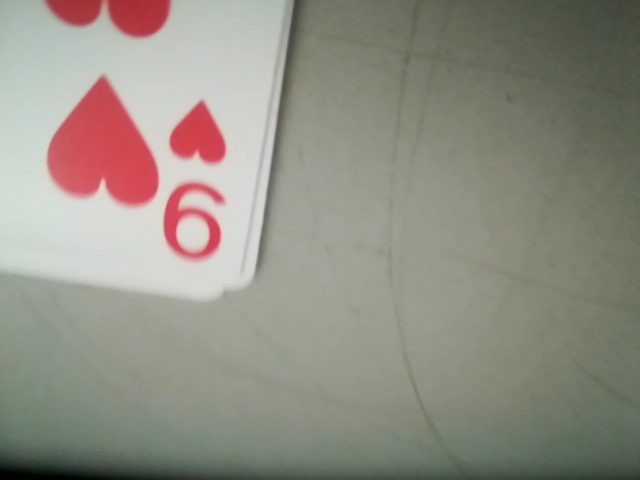hx 9: (161, 96, 227, 262)
